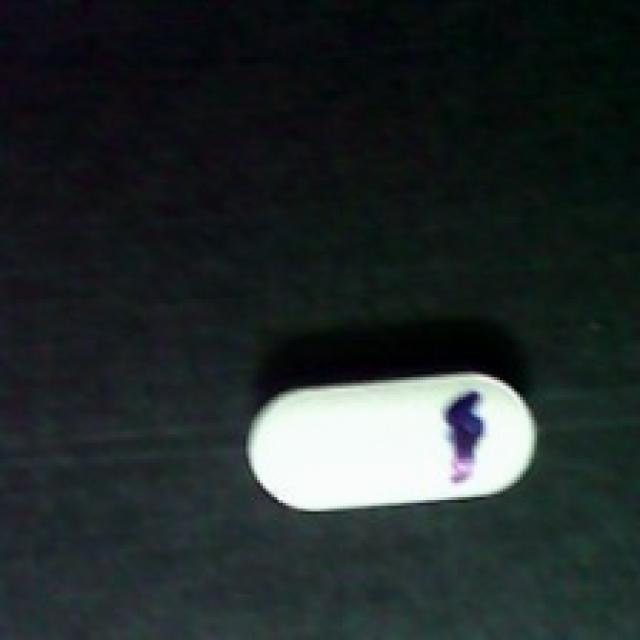defected: (243, 354, 540, 517)
